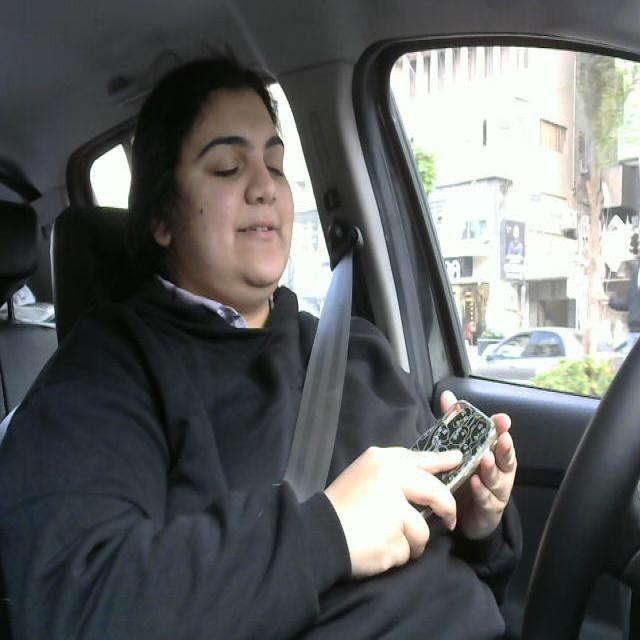mobile use: (369, 395, 501, 526)
